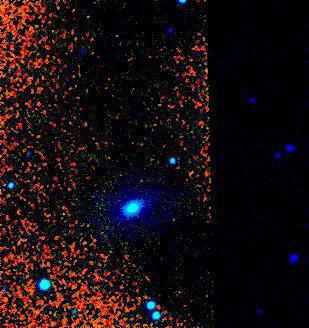star: (48, 201, 78, 231)
